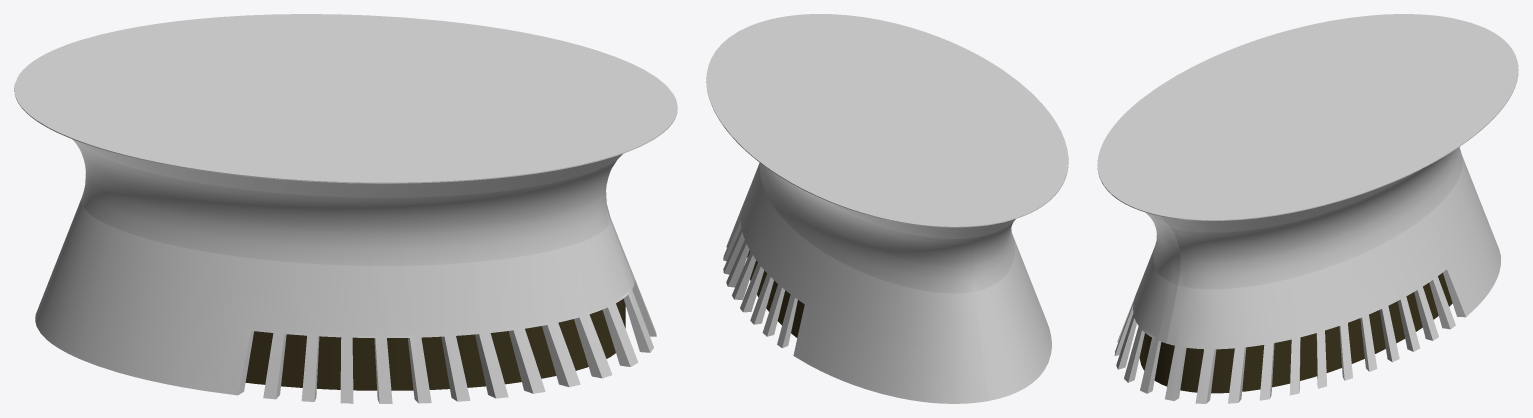
The model's file is tesora-patent.glb.
3 views of the same model, side by side, from view 1: azimuth 30°, elevation 25°; view 2: azimuth 150°, elevation 25°; view 3: azimuth 270°, elevation 25° (orthographic). The views are drawn at different scales.
Visible parts, largest first — view 1: Brep.833_mesh-f022ef58-2390-467b-a38c-7faec7584b68, Brep.832_mesh-a925d82a-3b41-476a-9cfe-31eb0d20d391; view 2: Brep.833_mesh-f022ef58-2390-467b-a38c-7faec7584b68, Brep.832_mesh-a925d82a-3b41-476a-9cfe-31eb0d20d391; view 3: Brep.833_mesh-f022ef58-2390-467b-a38c-7faec7584b68, Brep.832_mesh-a925d82a-3b41-476a-9cfe-31eb0d20d391.
Part boxes in pixels (x1=…): Brep.833_mesh-f022ef58-2390-467b-a38c-7faec7584b68: x1=14, y1=14, x2=677, y2=403; Brep.832_mesh-a925d82a-3b41-476a-9cfe-31eb0d20d391: x1=245, y1=298, x2=625, y2=390; Brep.833_mesh-f022ef58-2390-467b-a38c-7faec7584b68: x1=706, y1=14, x2=1068, y2=403; Brep.832_mesh-a925d82a-3b41-476a-9cfe-31eb0d20d391: x1=747, y1=250, x2=804, y2=337; Brep.833_mesh-f022ef58-2390-467b-a38c-7faec7584b68: x1=1097, y1=14, x2=1518, y2=403; Brep.832_mesh-a925d82a-3b41-476a-9cfe-31eb0d20d391: x1=1139, y1=272, x2=1452, y2=393.
Size of the model in its own units: 18.14 by 7.84 by 15.65.
